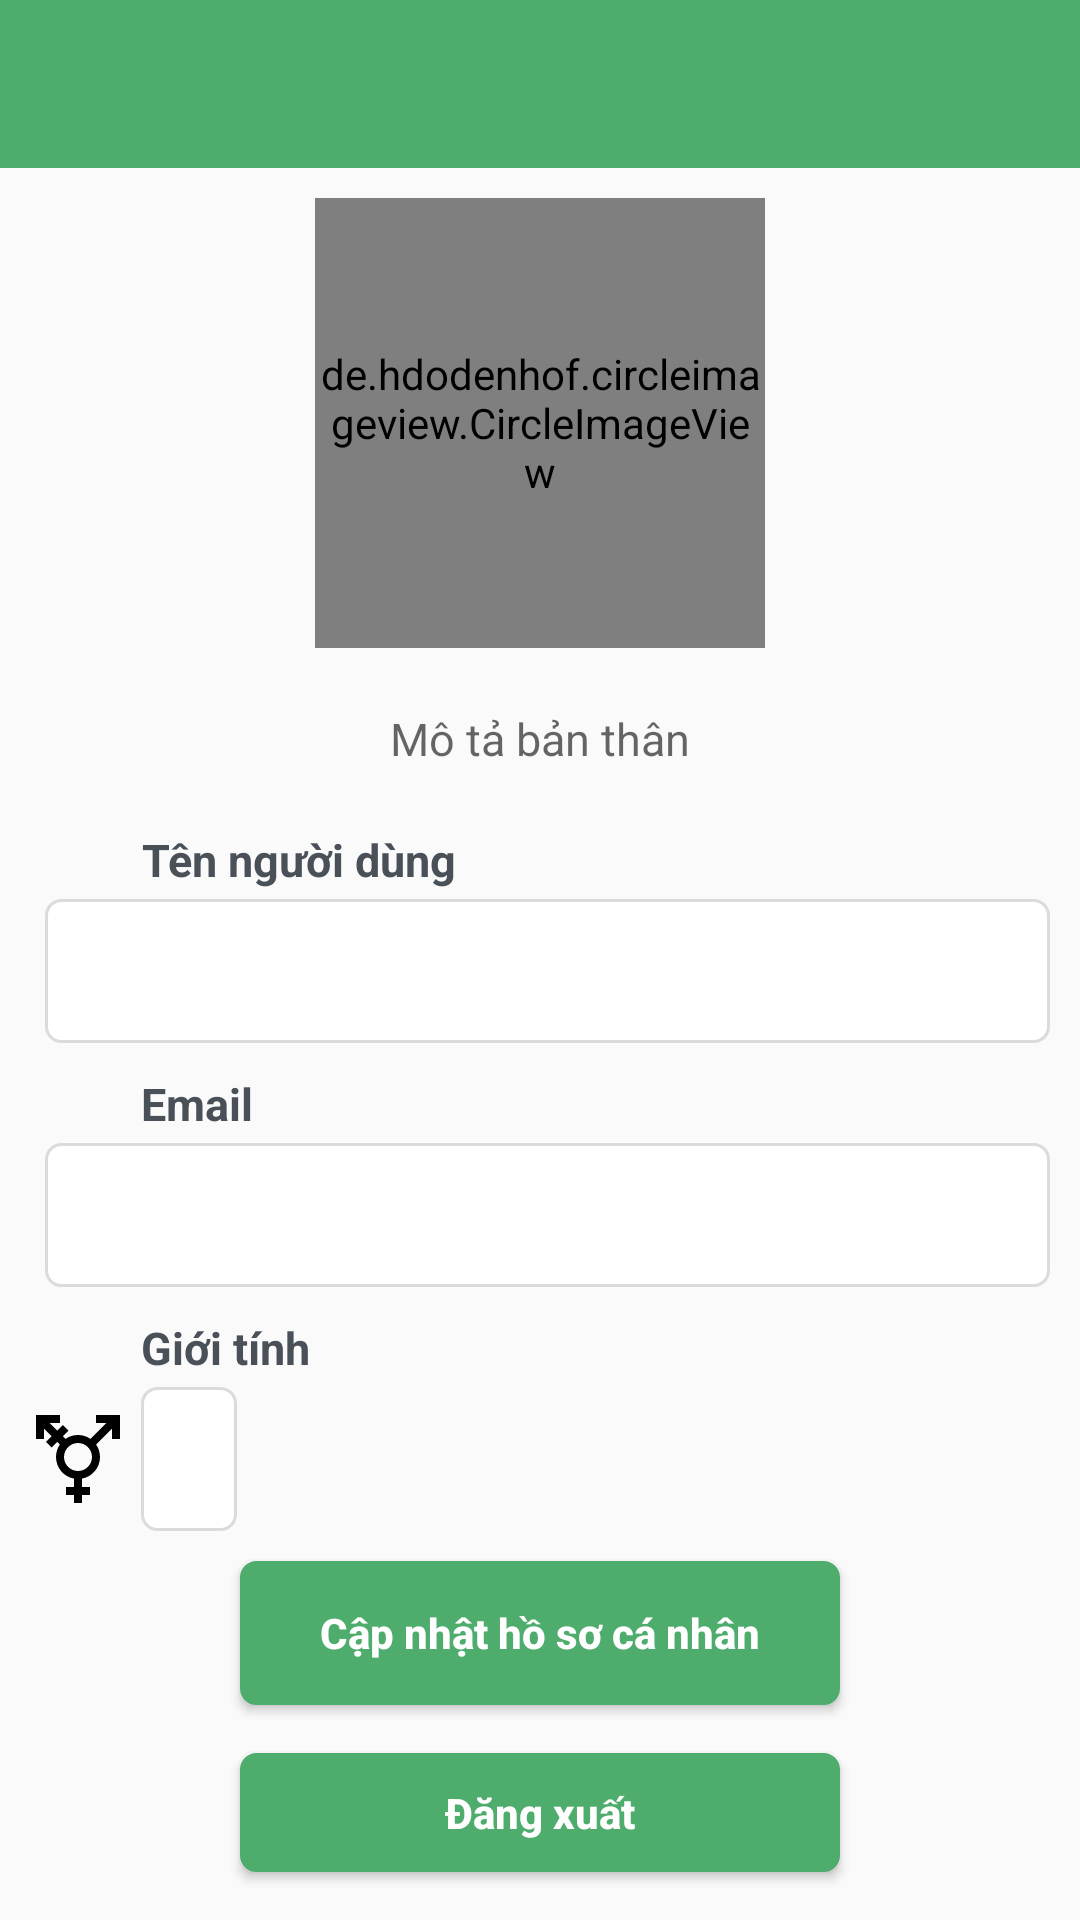

Point at icon controls on the screen. Image size 1080x1920, points as (x=x, y=y).
gender: (x=78, y=1459)
